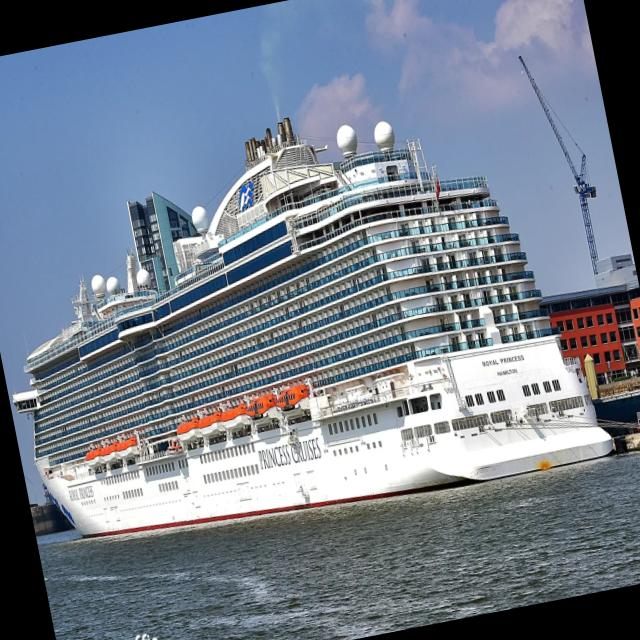Cruise: (12, 118, 612, 536)
